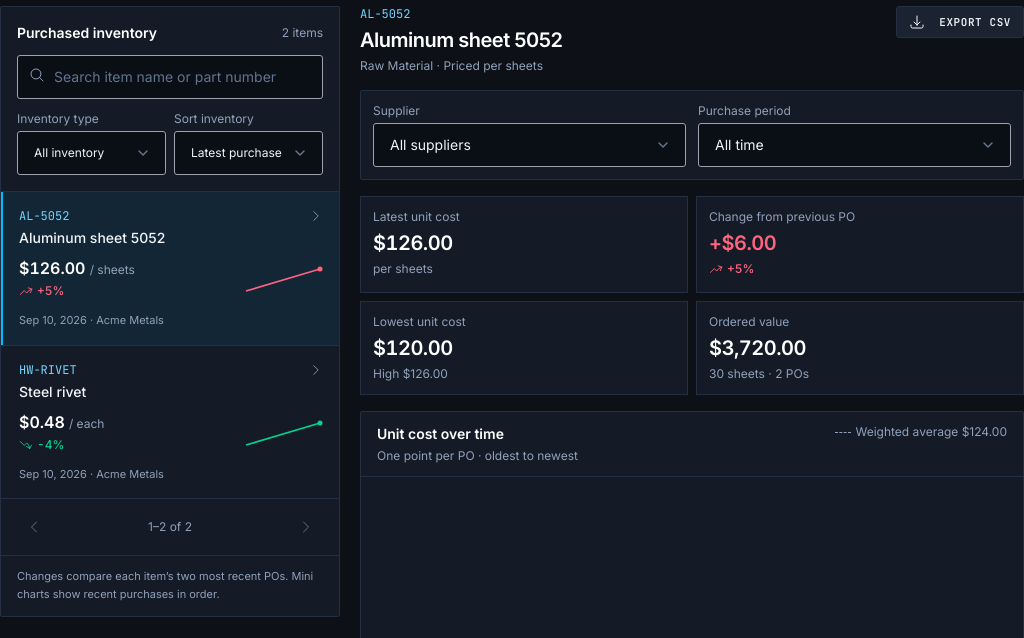
Test: selecting inventory updates the URL and shows that item’s purchases
What coordinates should you click on to do the following:
click the button "HW-RIVET"
I would click on:
 (48, 370)
Its box is [1,346,339,498].
(page scrolled)
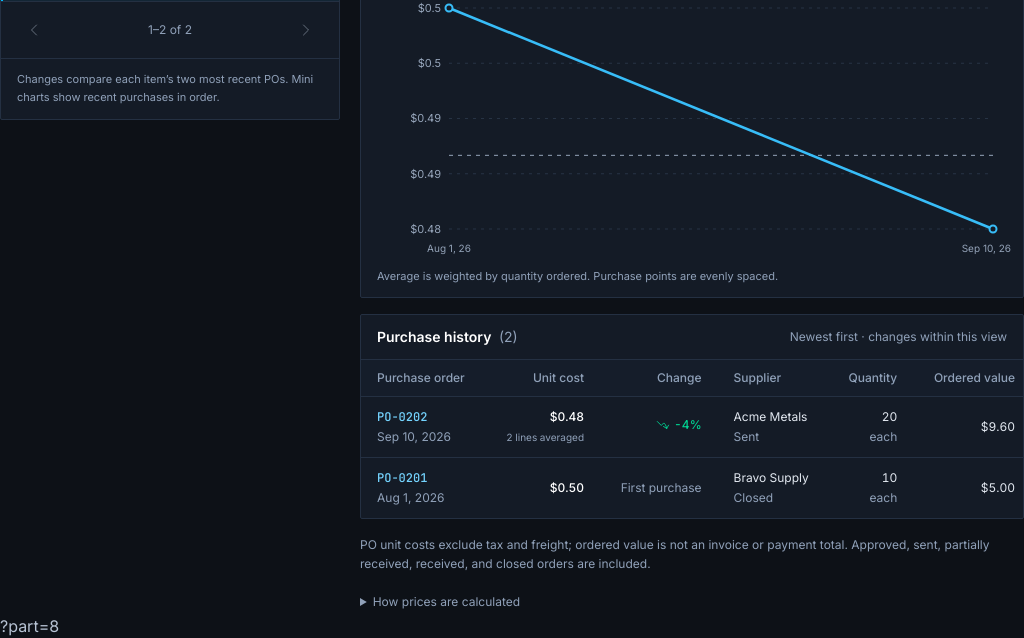
Check: the link "PO-0202" is shown, box [377,408,427,424]
Check: the text with test id "current-search" shows "part=8", box [0,616,59,636]
